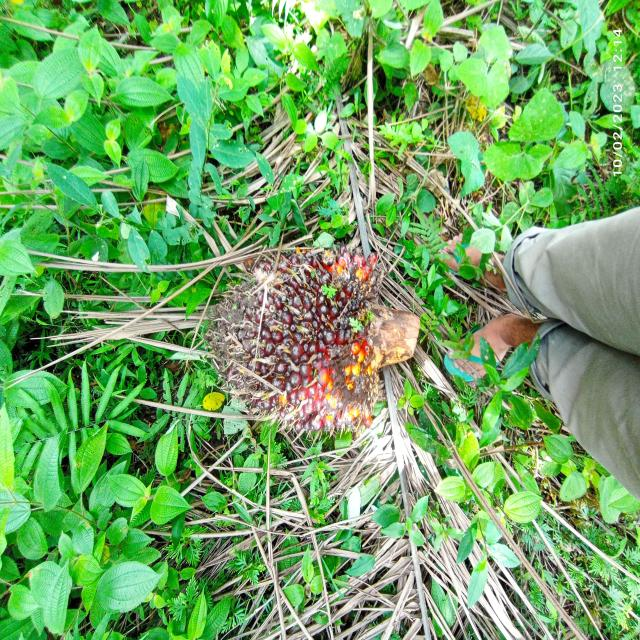fraksi 1: (188, 204, 441, 481)
